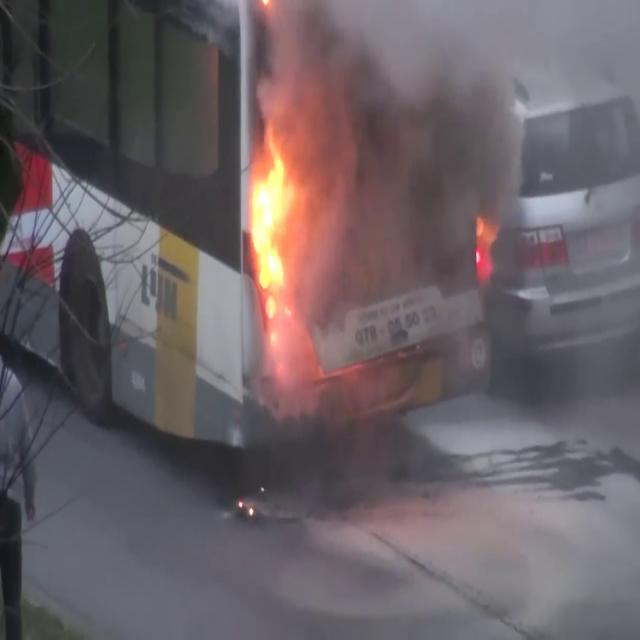Fire: (244, 119, 305, 332)
Smoke: (277, 1, 544, 308)
